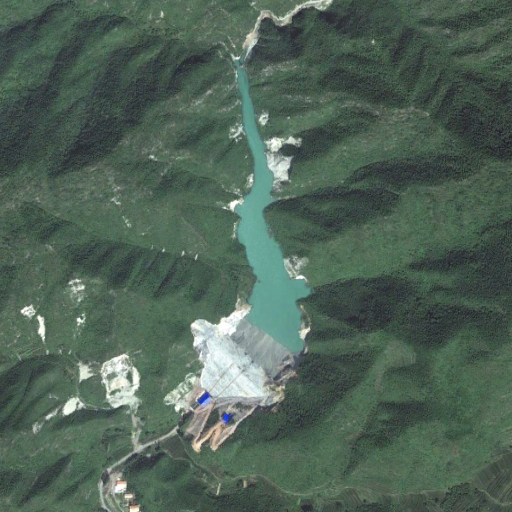tp: (197, 59, 317, 400)
